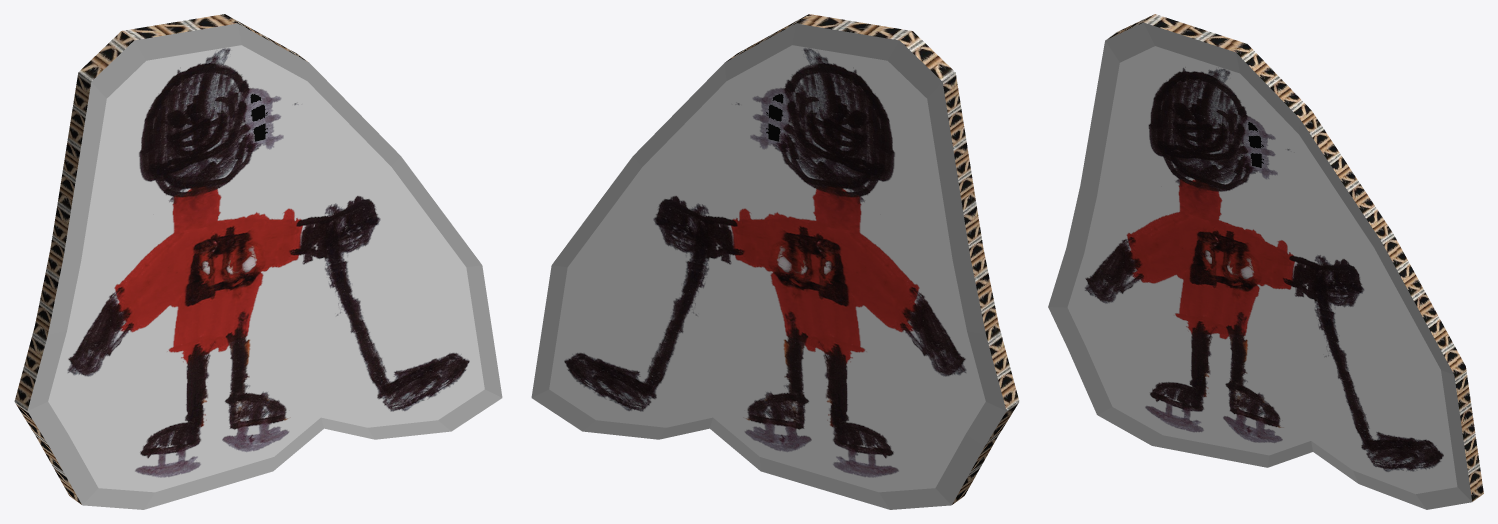
File: KiekkoilijaPunainen.fbx
3 views of the same model, side by side, from view 1: azimuth 30°, elevation 25°; view 2: azimuth 150°, elevation 25°; view 3: azimuth 330°, elevation 25° (orthographic). The views are drawn at different scales.
Visible parts, largest first — view 1: KiekkoilijaPunainen; view 2: KiekkoilijaPunainen; view 3: KiekkoilijaPunainen.
Part boxes in pixels (x1,y1,x2,y2): KiekkoilijaPunainen: (14,14,502,509); KiekkoilijaPunainen: (531,14,1019,509); KiekkoilijaPunainen: (1048,14,1483,509).
Size of the model in its own units: 218 by 206 by 10.29.
